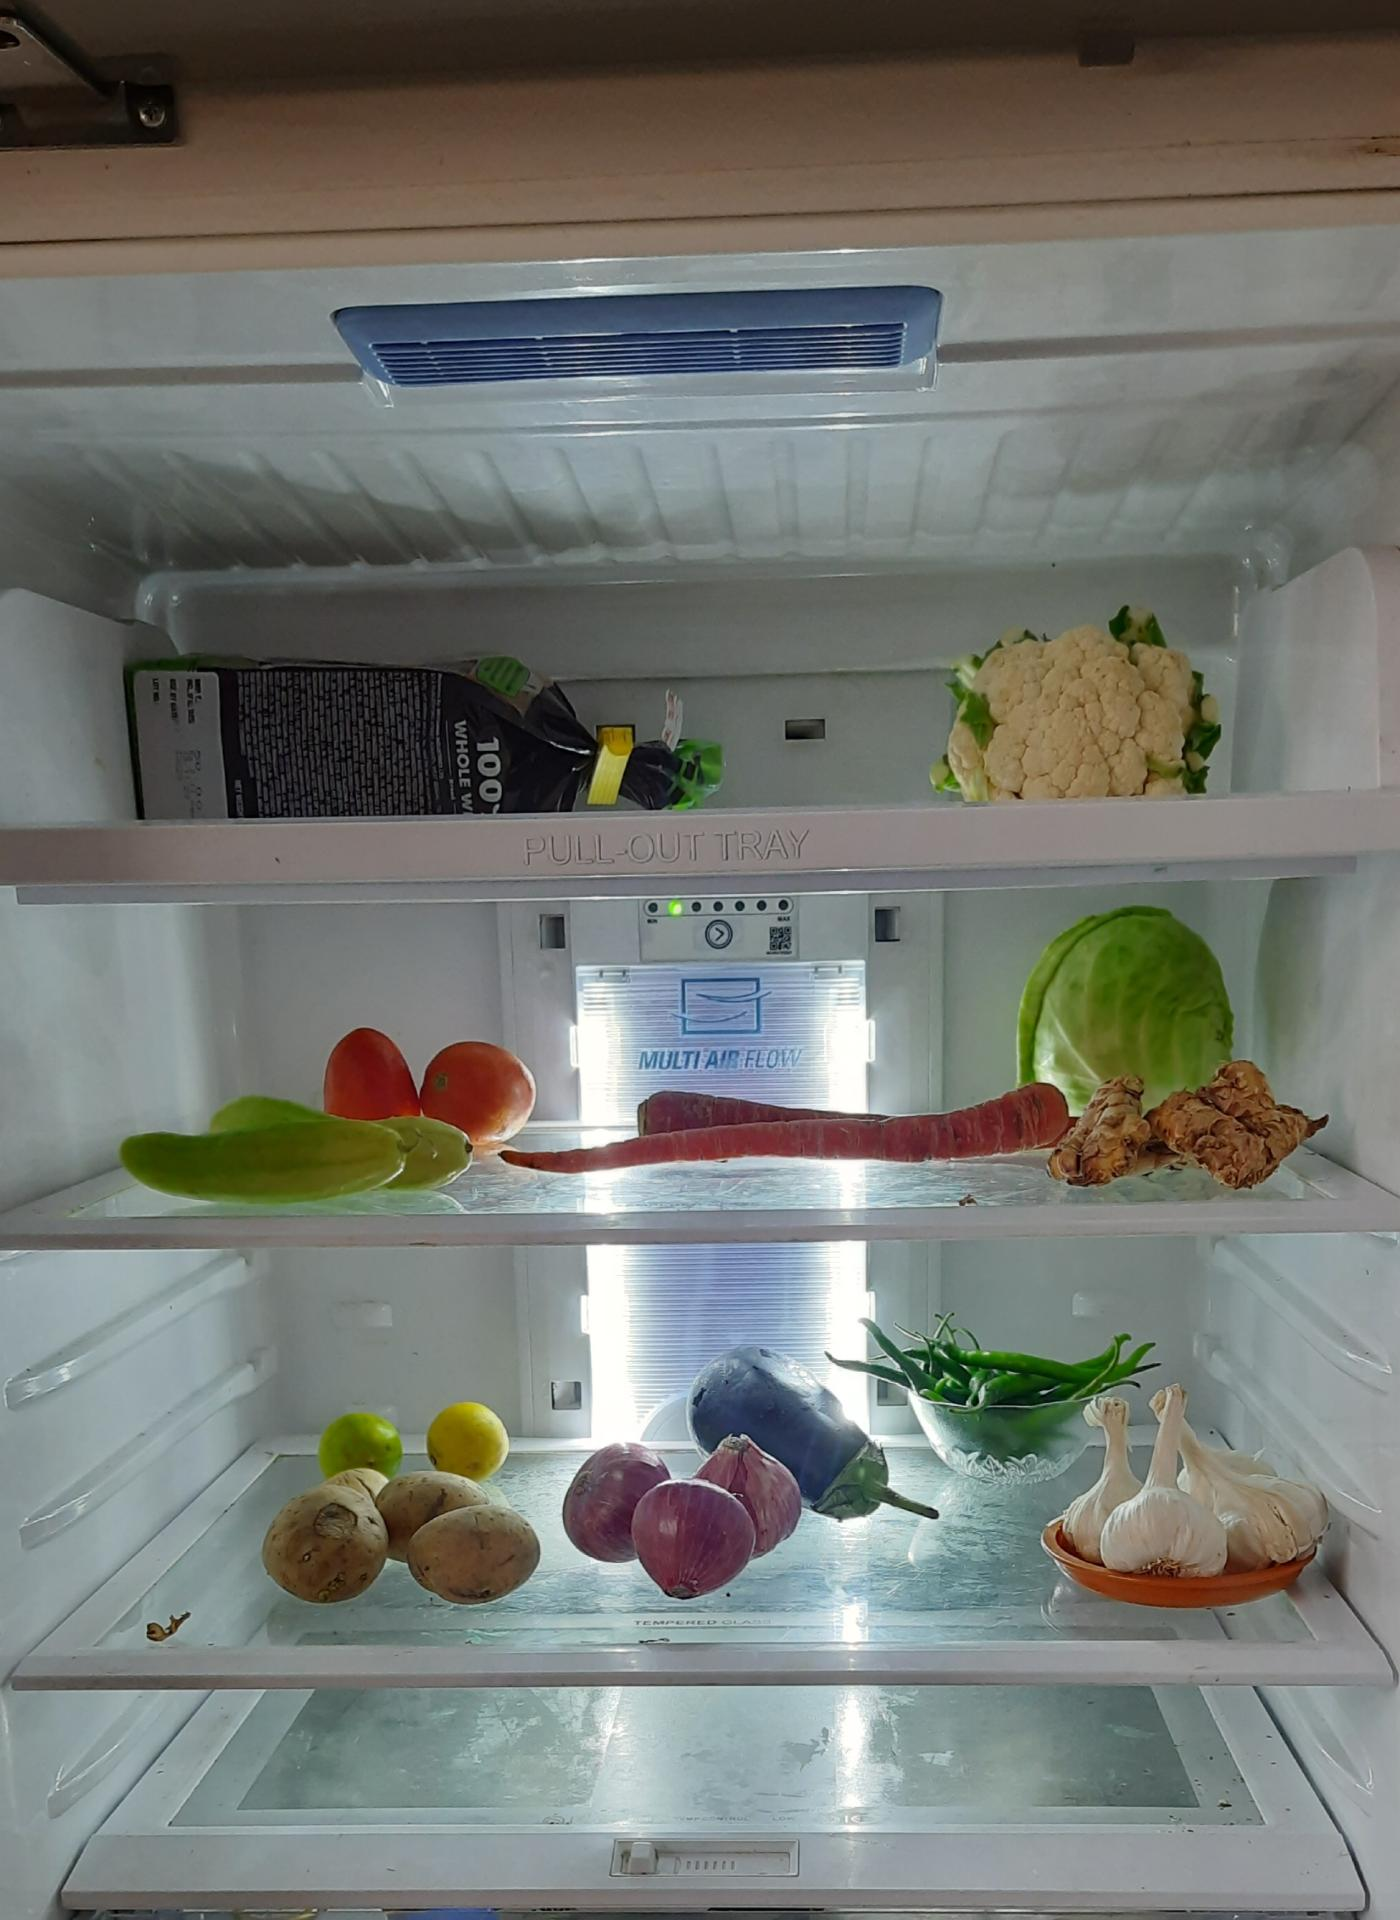bread: (116, 641, 650, 809)
brinjal: (690, 1349, 905, 1497)
cabbage: (1021, 909, 1235, 1103)
carrots: (592, 1099, 1087, 1185)
cauliflower: (947, 610, 1224, 808)
chillies: (860, 1322, 1153, 1468)
cucumber: (116, 1090, 473, 1193)
garlic: (1045, 1379, 1333, 1579)
ginger: (1045, 1075, 1336, 1193)
lemon: (422, 1397, 519, 1479), (324, 1404, 409, 1488)
potato: (258, 1461, 549, 1604)
tomato: (416, 1032, 535, 1142), (324, 1020, 426, 1124)
